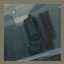car: (26, 15, 43, 54)
